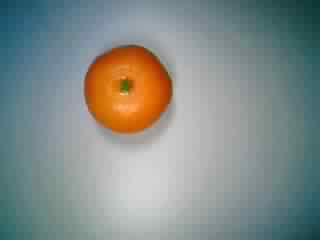orange: (83, 44, 178, 140)
